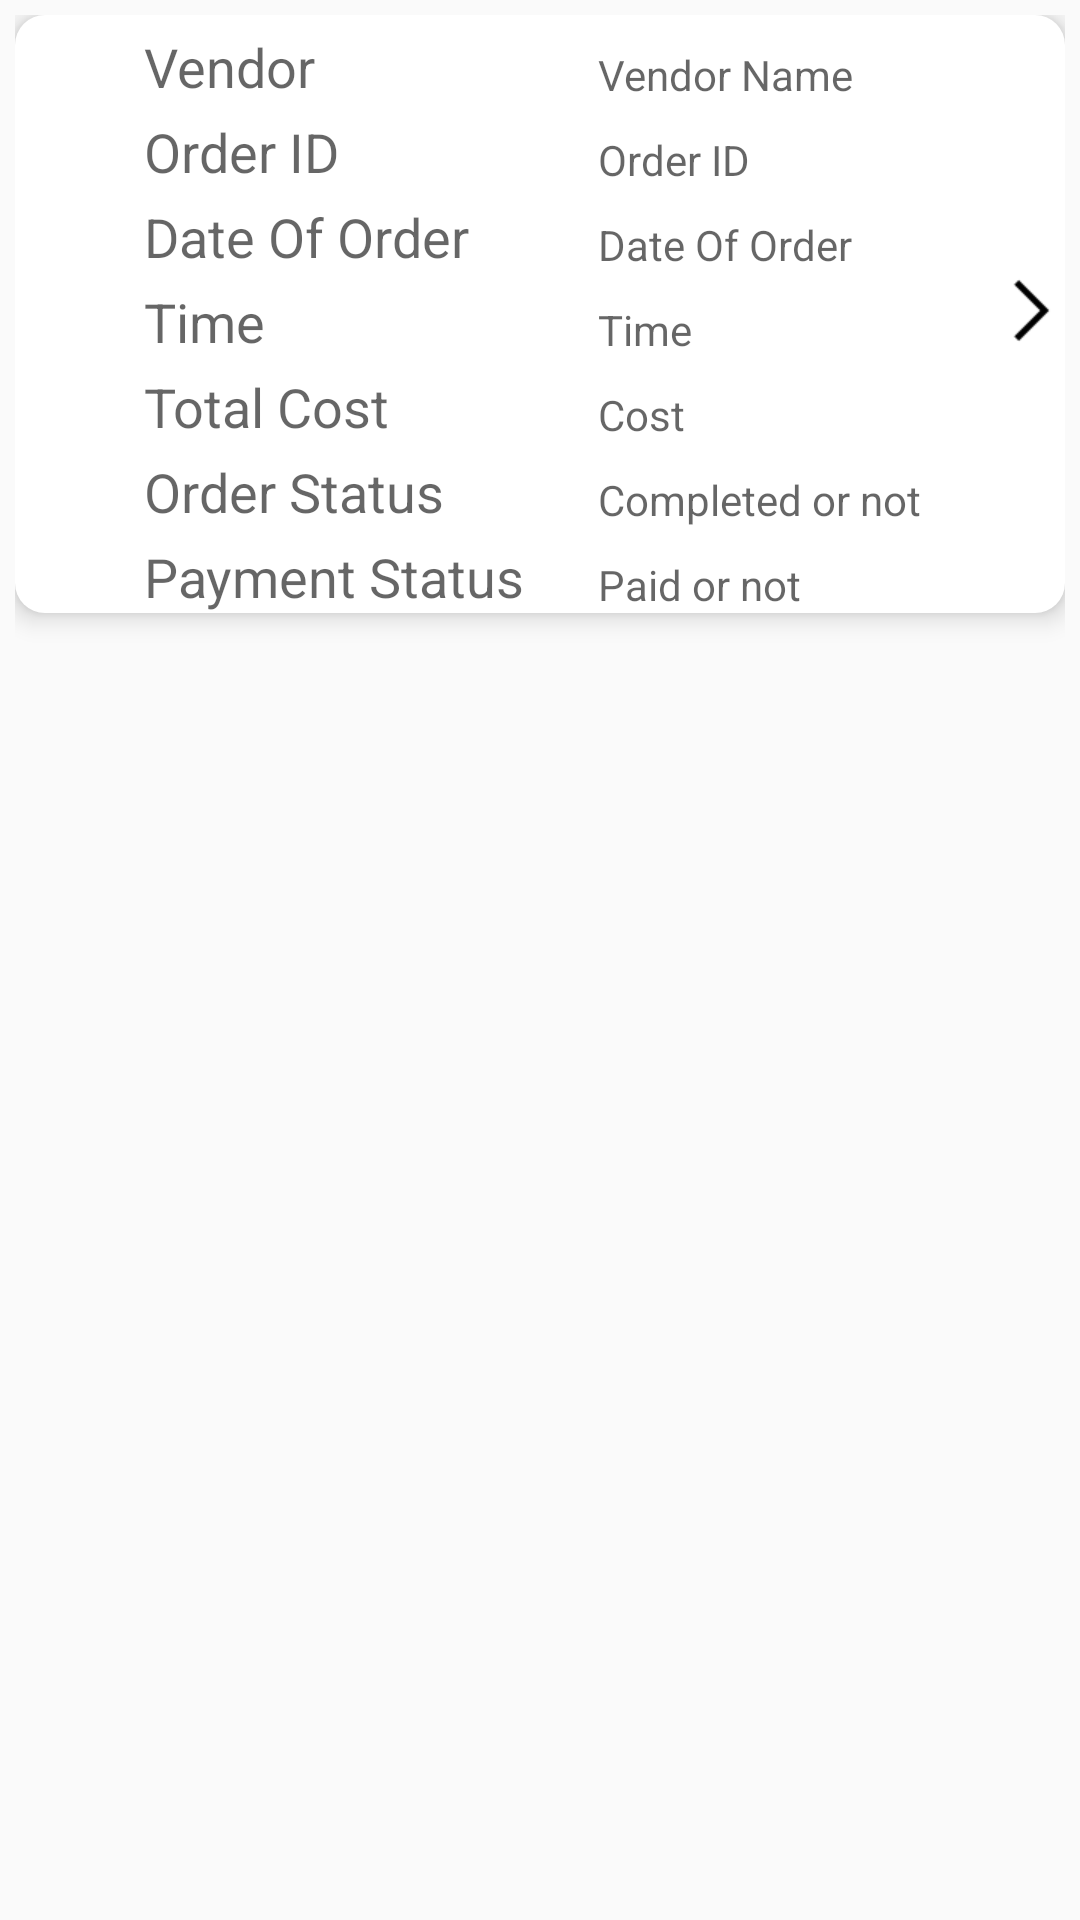

Where icons sit on this 1080w x 1920h app screen, as bbox=[x1, y1, x2, y2]:
next: bbox=[1014, 280, 1049, 341]
